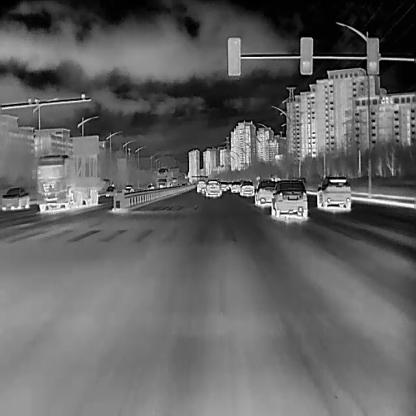car: (269, 178, 308, 218), (315, 176, 351, 210), (1, 186, 30, 211), (254, 180, 277, 207), (205, 179, 221, 197), (239, 180, 254, 196), (123, 184, 134, 195), (105, 184, 115, 196), (196, 180, 206, 192), (231, 180, 241, 192), (220, 180, 229, 191), (146, 183, 154, 189)
truck: (31, 152, 104, 214), (157, 166, 173, 188)
